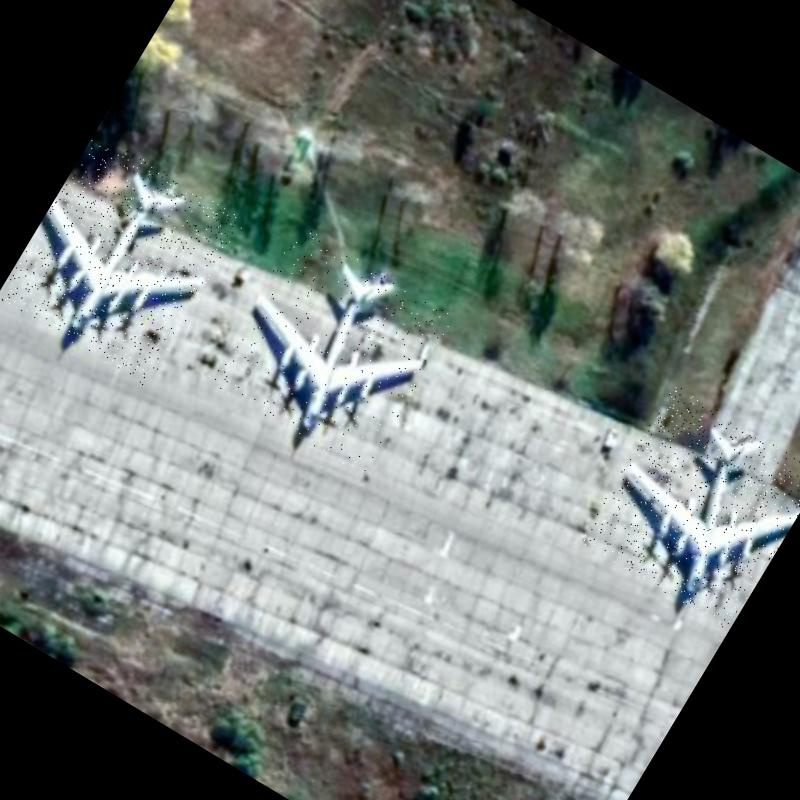A17: (206, 224, 456, 476), (0, 131, 246, 387), (578, 383, 800, 630)
